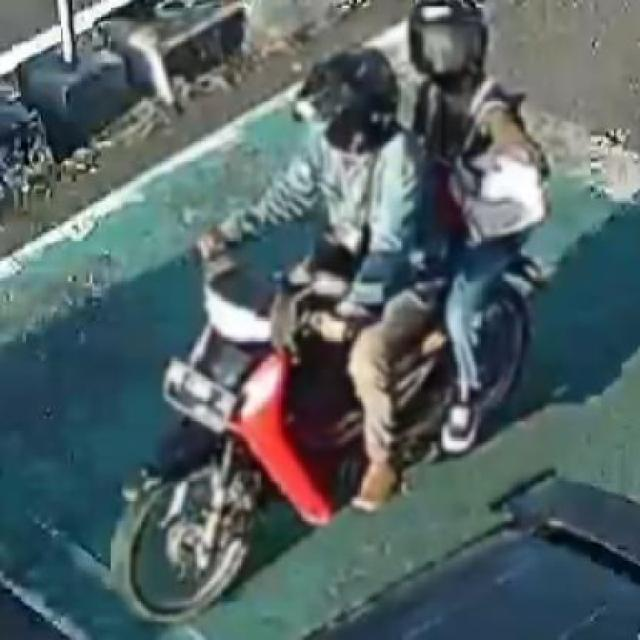helmet: (284, 39, 407, 165), (406, 0, 502, 91)
motorcycle: (95, 0, 564, 633)
